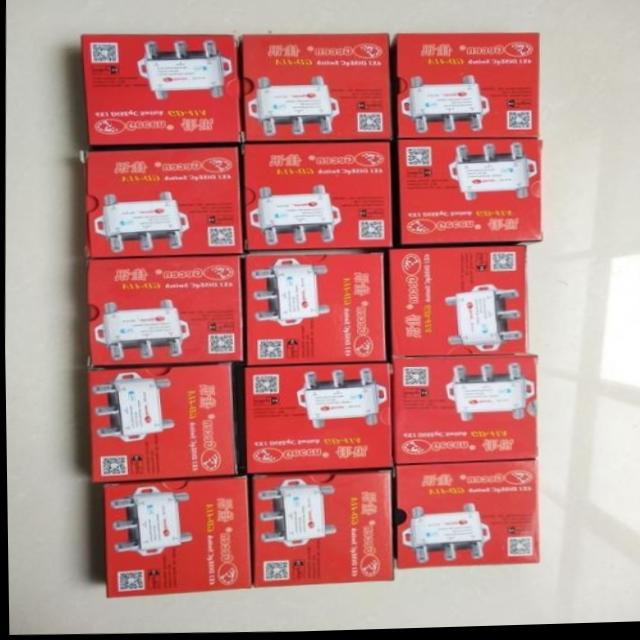box: (101, 477, 249, 598), (84, 364, 234, 483), (81, 34, 240, 145), (80, 149, 242, 257), (85, 256, 241, 366), (251, 472, 391, 589), (391, 356, 537, 467), (242, 144, 392, 251), (241, 35, 391, 142), (243, 365, 390, 474), (394, 462, 538, 572), (390, 35, 539, 141), (243, 254, 384, 366), (397, 141, 541, 250), (388, 249, 527, 359)
